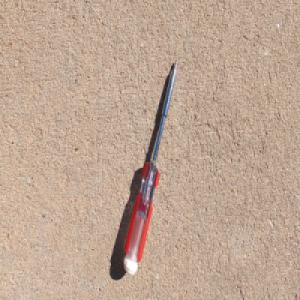Screwdriver: (122, 57, 178, 276)
